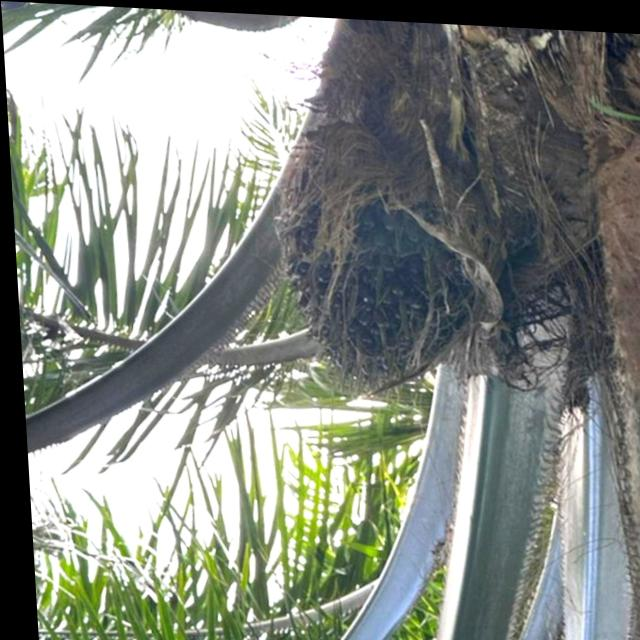almost: (263, 139, 488, 411)
